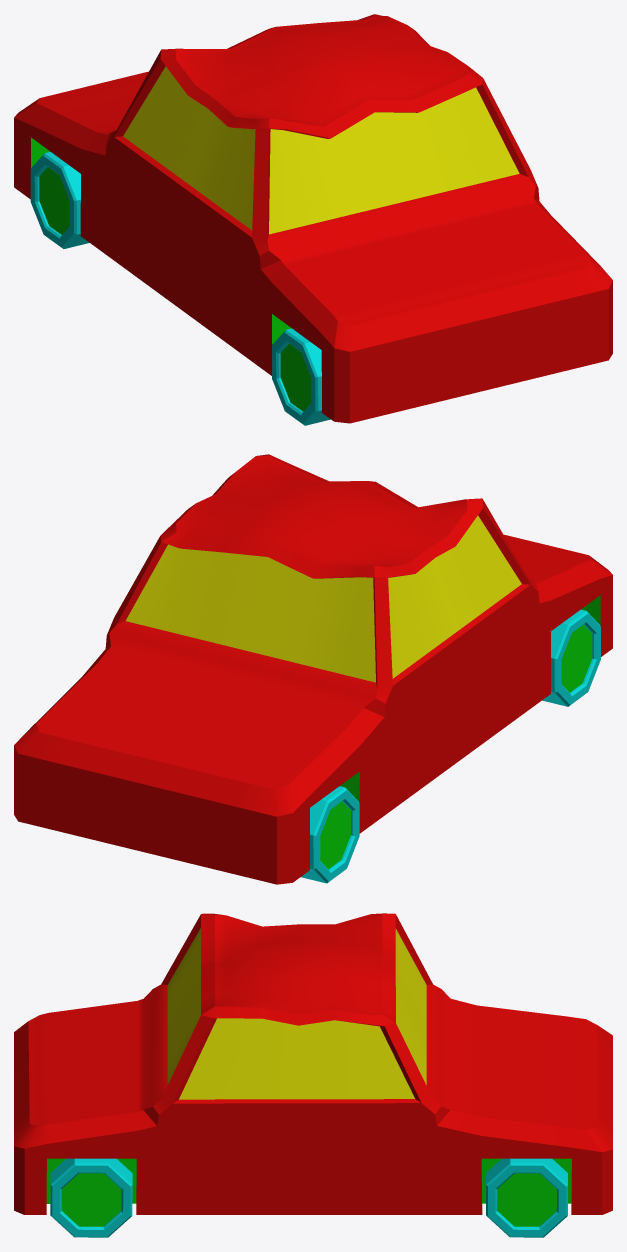
The model's file is WreckedCarE.fbx.
3 views of the same model, one above another, from view 1: azimuth 30°, elevation 25°; view 2: azimuth 150°, elevation 25°; view 3: azimuth 270°, elevation 25° (orthographic). The views are drawn at different scales.
Parts seen in each view (by area): view 1: WreckedCarE; view 2: WreckedCarE; view 3: WreckedCarE.
Part boxes in pixels (x1,y1,x2,y2): WreckedCarE: (14, 14, 612, 425); WreckedCarE: (14, 454, 612, 884); WreckedCarE: (14, 913, 612, 1237).
Bounding box in the file's own units: 1.81 × 1.5 × 3.64.
